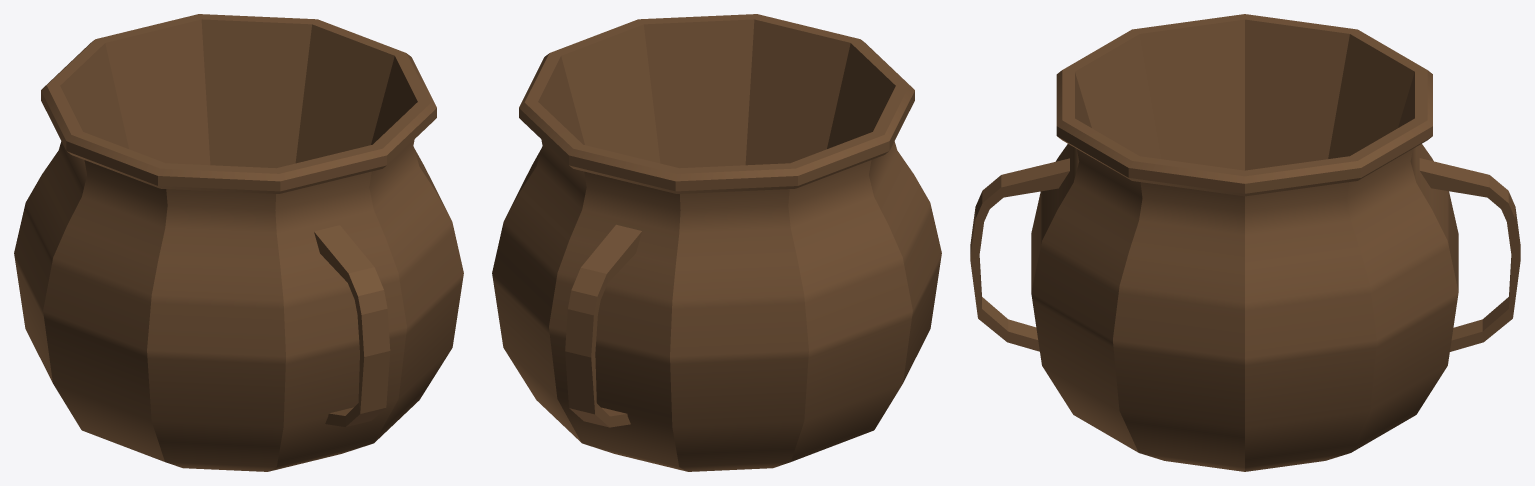
File: Clay_Pot_Five.fbx
3 renders of one model, left to right at view 1: azimuth 30°, elevation 25°; view 2: azimuth 150°, elevation 25°; view 3: azimuth 270°, elevation 25°, orthographic.
Parts seen in each view (by area): view 1: Clay_Pot_Five; view 2: Clay_Pot_Five; view 3: Clay_Pot_Five.
Part boxes in pixels (<box>): Clay_Pot_Five: <box>14,14,463,471</box>; Clay_Pot_Five: <box>492,14,941,471</box>; Clay_Pot_Five: <box>970,14,1520,471</box>.
Size of the model in its own units: 0.9338 by 0.7314 by 1.14.
